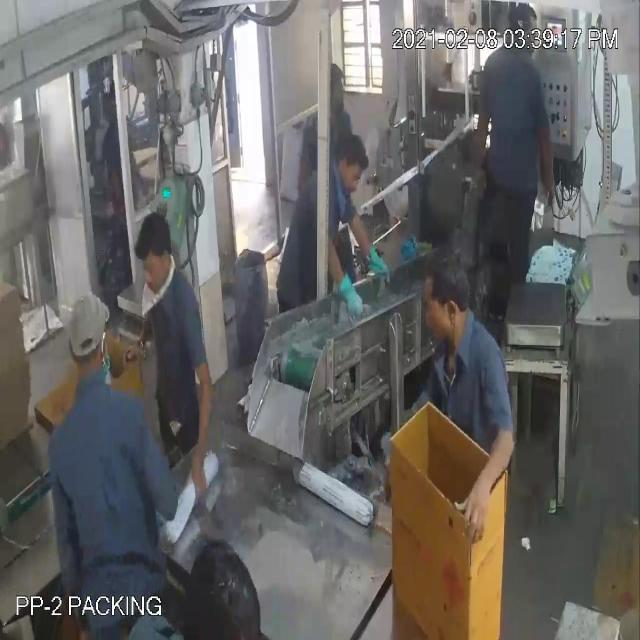No_Gloves: (34, 146, 486, 478)
